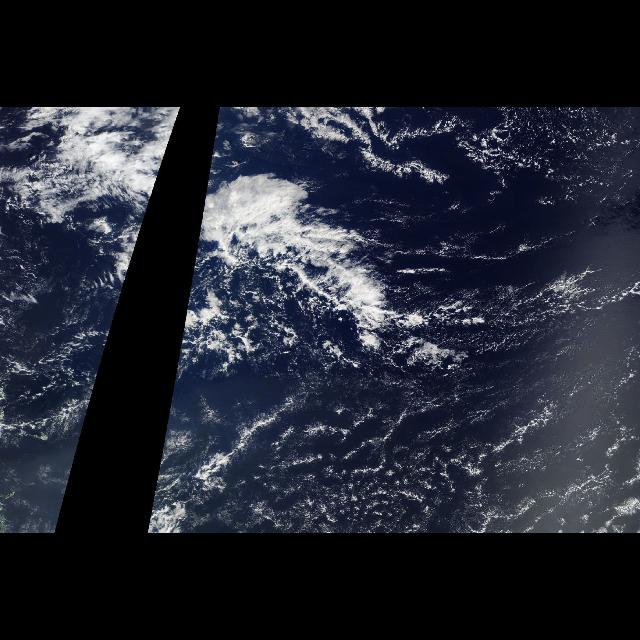Fish: (176, 140, 602, 398), (80, 139, 170, 367)
Gravel: (187, 360, 531, 530)
Sugar: (266, 450, 478, 532)
